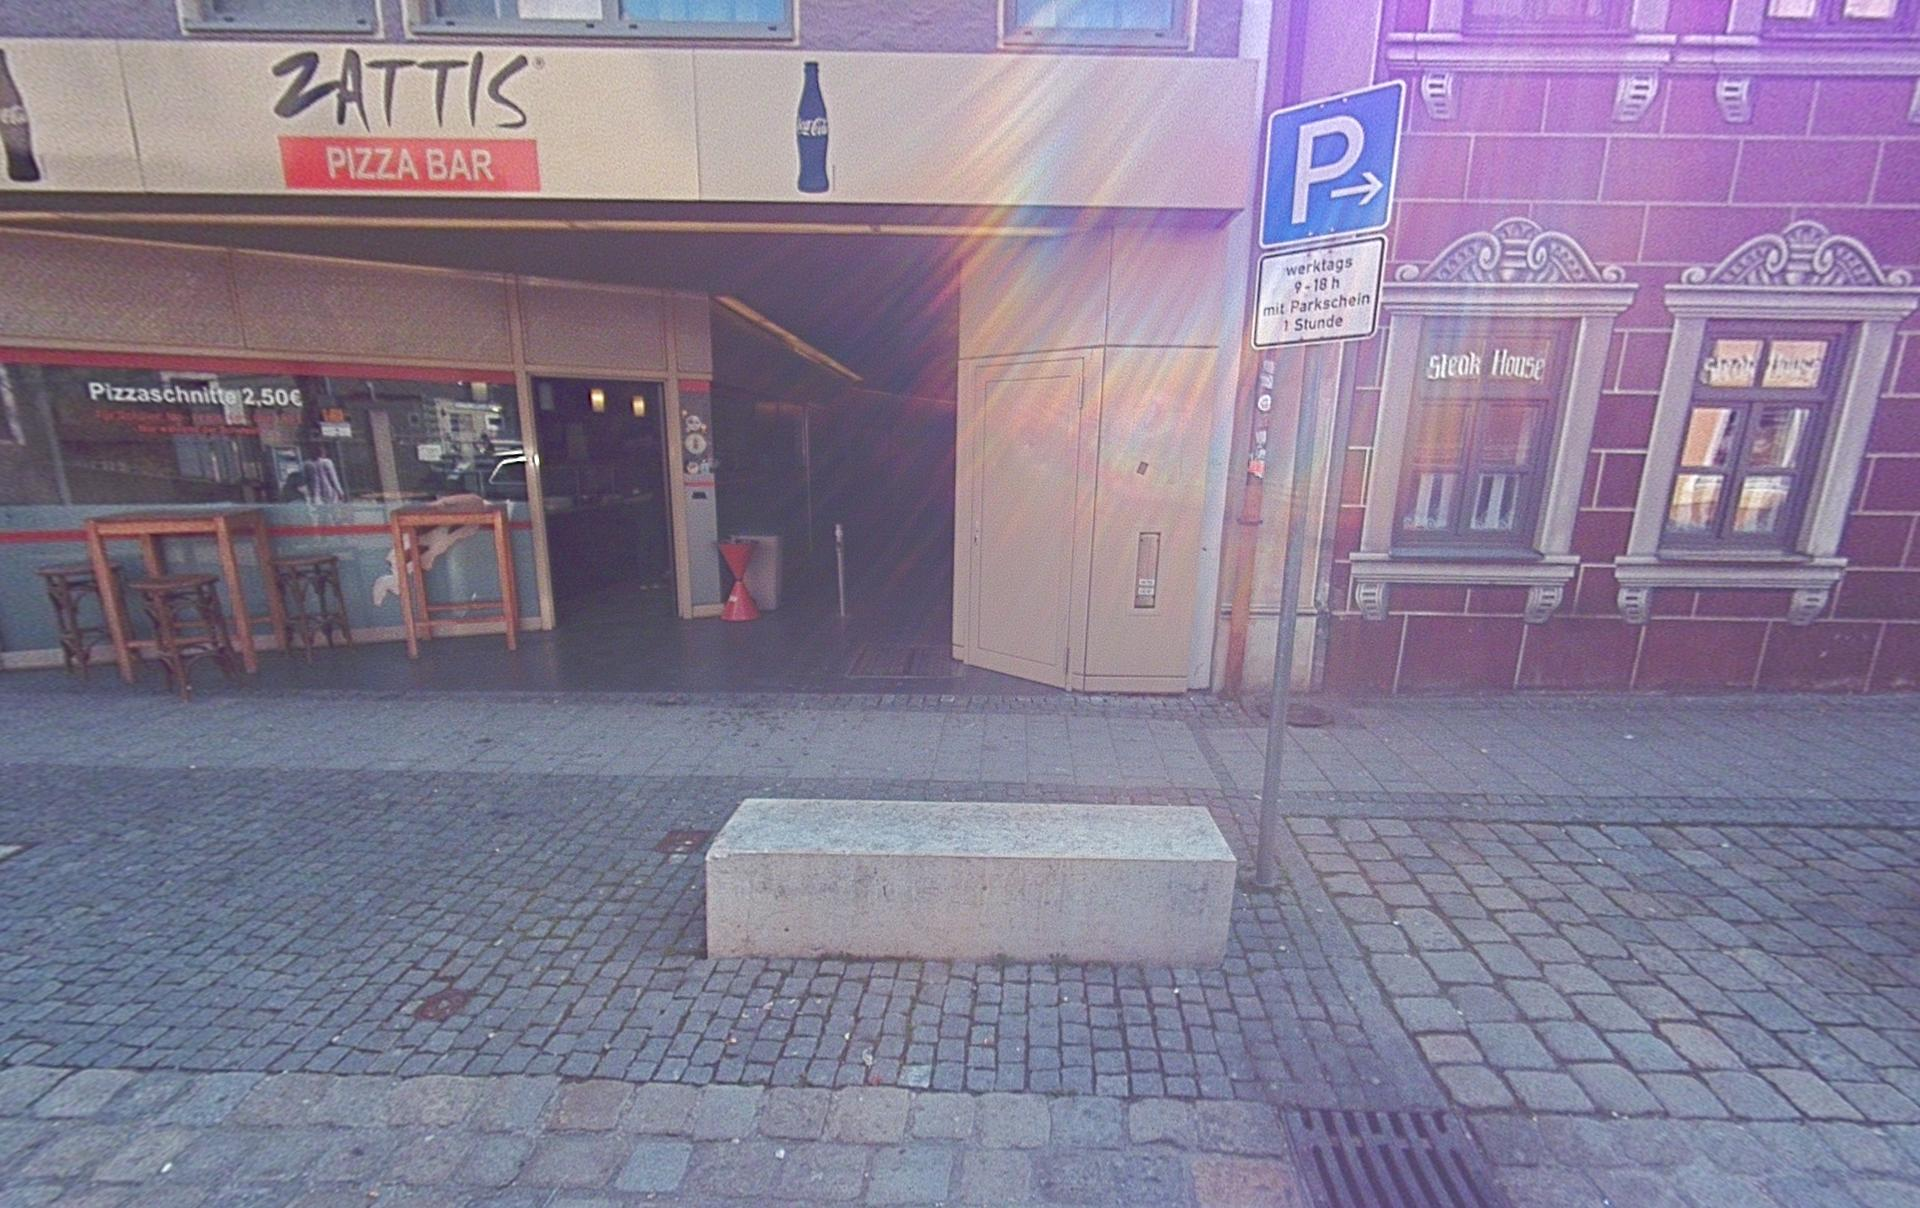traffic sign: (1257, 78, 1408, 249), (1250, 235, 1388, 350)
